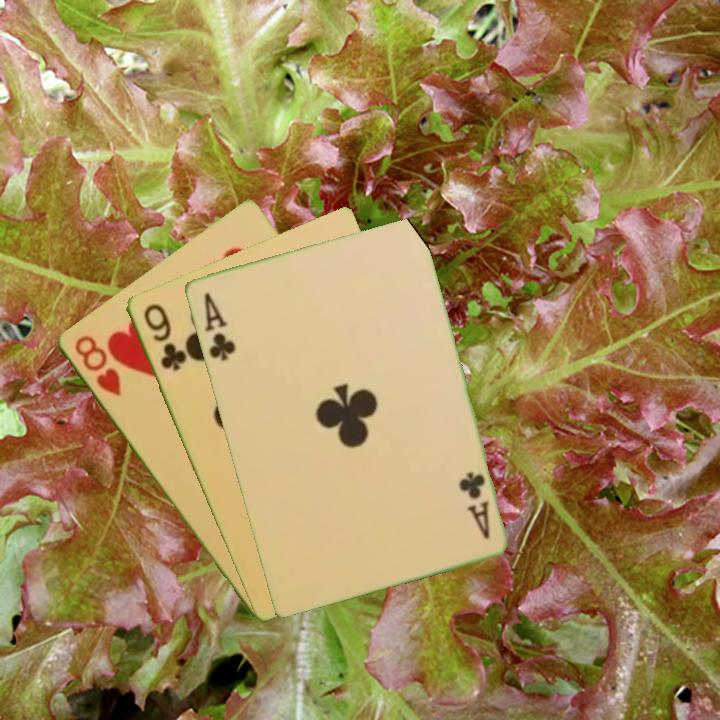8h: (70, 331, 124, 399)
9c: (139, 300, 188, 374)
Ac: (200, 289, 238, 364), (454, 467, 492, 542)
